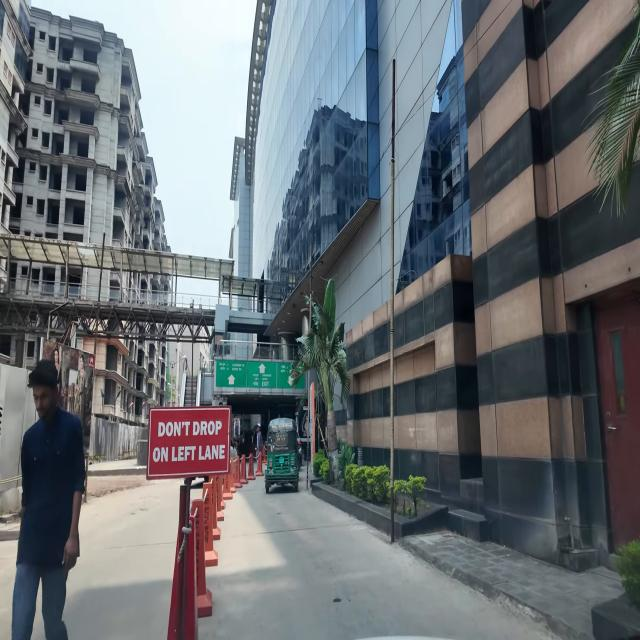person: (11, 359, 84, 640)
